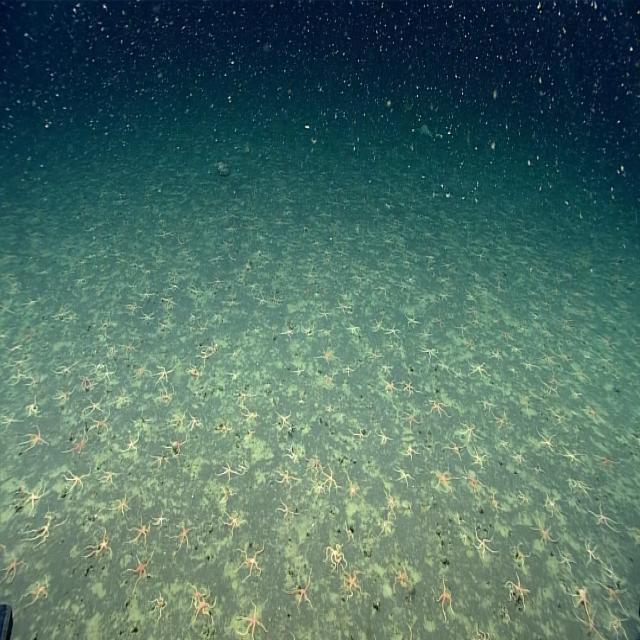brittle-stars: (238, 599, 264, 639), (291, 570, 313, 615), (590, 502, 619, 536), (236, 543, 264, 578), (26, 512, 53, 548), (1, 551, 24, 589), (89, 527, 112, 565), (22, 478, 46, 514), (506, 572, 530, 608), (25, 575, 50, 607), (435, 578, 455, 618), (130, 551, 154, 584), (573, 584, 593, 623), (474, 525, 496, 559), (64, 467, 90, 495), (598, 581, 626, 607), (21, 425, 46, 453), (129, 518, 151, 548), (594, 452, 620, 477), (606, 610, 629, 638), (533, 519, 556, 546), (344, 568, 364, 599), (195, 594, 217, 622), (392, 559, 411, 591), (173, 524, 195, 551), (108, 492, 131, 517), (221, 510, 246, 531), (326, 542, 346, 568), (70, 428, 88, 456), (435, 467, 455, 492), (584, 540, 603, 566), (217, 462, 238, 484), (537, 429, 556, 453), (151, 508, 169, 533), (90, 412, 110, 434), (459, 419, 478, 442), (468, 445, 486, 469), (427, 398, 448, 418), (569, 476, 590, 496), (276, 467, 294, 490), (158, 384, 175, 408), (187, 408, 203, 433), (465, 470, 481, 495), (154, 364, 172, 386), (115, 386, 133, 408), (345, 472, 360, 498), (468, 360, 488, 379), (446, 439, 464, 460), (85, 395, 103, 415), (274, 409, 292, 429), (562, 446, 582, 464), (306, 452, 322, 474), (512, 544, 528, 566), (153, 591, 166, 618), (169, 412, 186, 432), (124, 433, 140, 454), (25, 396, 39, 420), (383, 488, 397, 512), (492, 411, 508, 432), (404, 308, 420, 329), (404, 409, 419, 431), (559, 549, 574, 571), (100, 469, 118, 487), (324, 463, 336, 490), (420, 344, 438, 362), (56, 360, 76, 376), (190, 584, 203, 608), (57, 388, 74, 406), (396, 465, 410, 486), (320, 344, 336, 362), (432, 311, 448, 329), (123, 336, 136, 358), (189, 283, 204, 302), (78, 371, 92, 391), (402, 379, 416, 399), (134, 360, 150, 377), (241, 407, 259, 422), (510, 448, 525, 466), (383, 378, 398, 396), (377, 428, 391, 447), (404, 442, 418, 461), (278, 500, 294, 516), (139, 285, 155, 301), (235, 388, 251, 404), (522, 358, 537, 375), (454, 322, 471, 337), (102, 364, 116, 382), (386, 322, 400, 340), (367, 344, 381, 362), (199, 348, 212, 367), (72, 273, 88, 288), (280, 322, 294, 339), (337, 299, 352, 314), (140, 309, 155, 324), (210, 276, 226, 290), (542, 352, 556, 368), (346, 320, 359, 337), (371, 315, 384, 332), (188, 364, 201, 381), (161, 294, 175, 309), (126, 298, 138, 314), (516, 491, 528, 506), (345, 362, 355, 380), (397, 278, 408, 294), (256, 292, 267, 308), (420, 328, 431, 343), (318, 307, 330, 320), (491, 347, 502, 361), (109, 344, 117, 356)
